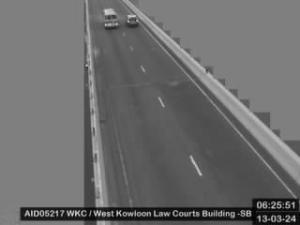bus: (104, 8, 120, 30)
vehicle: (127, 15, 139, 27)
